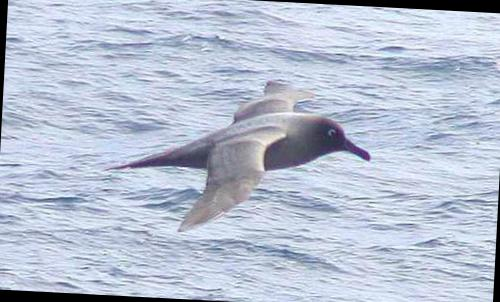bird: (92, 65, 398, 254)
